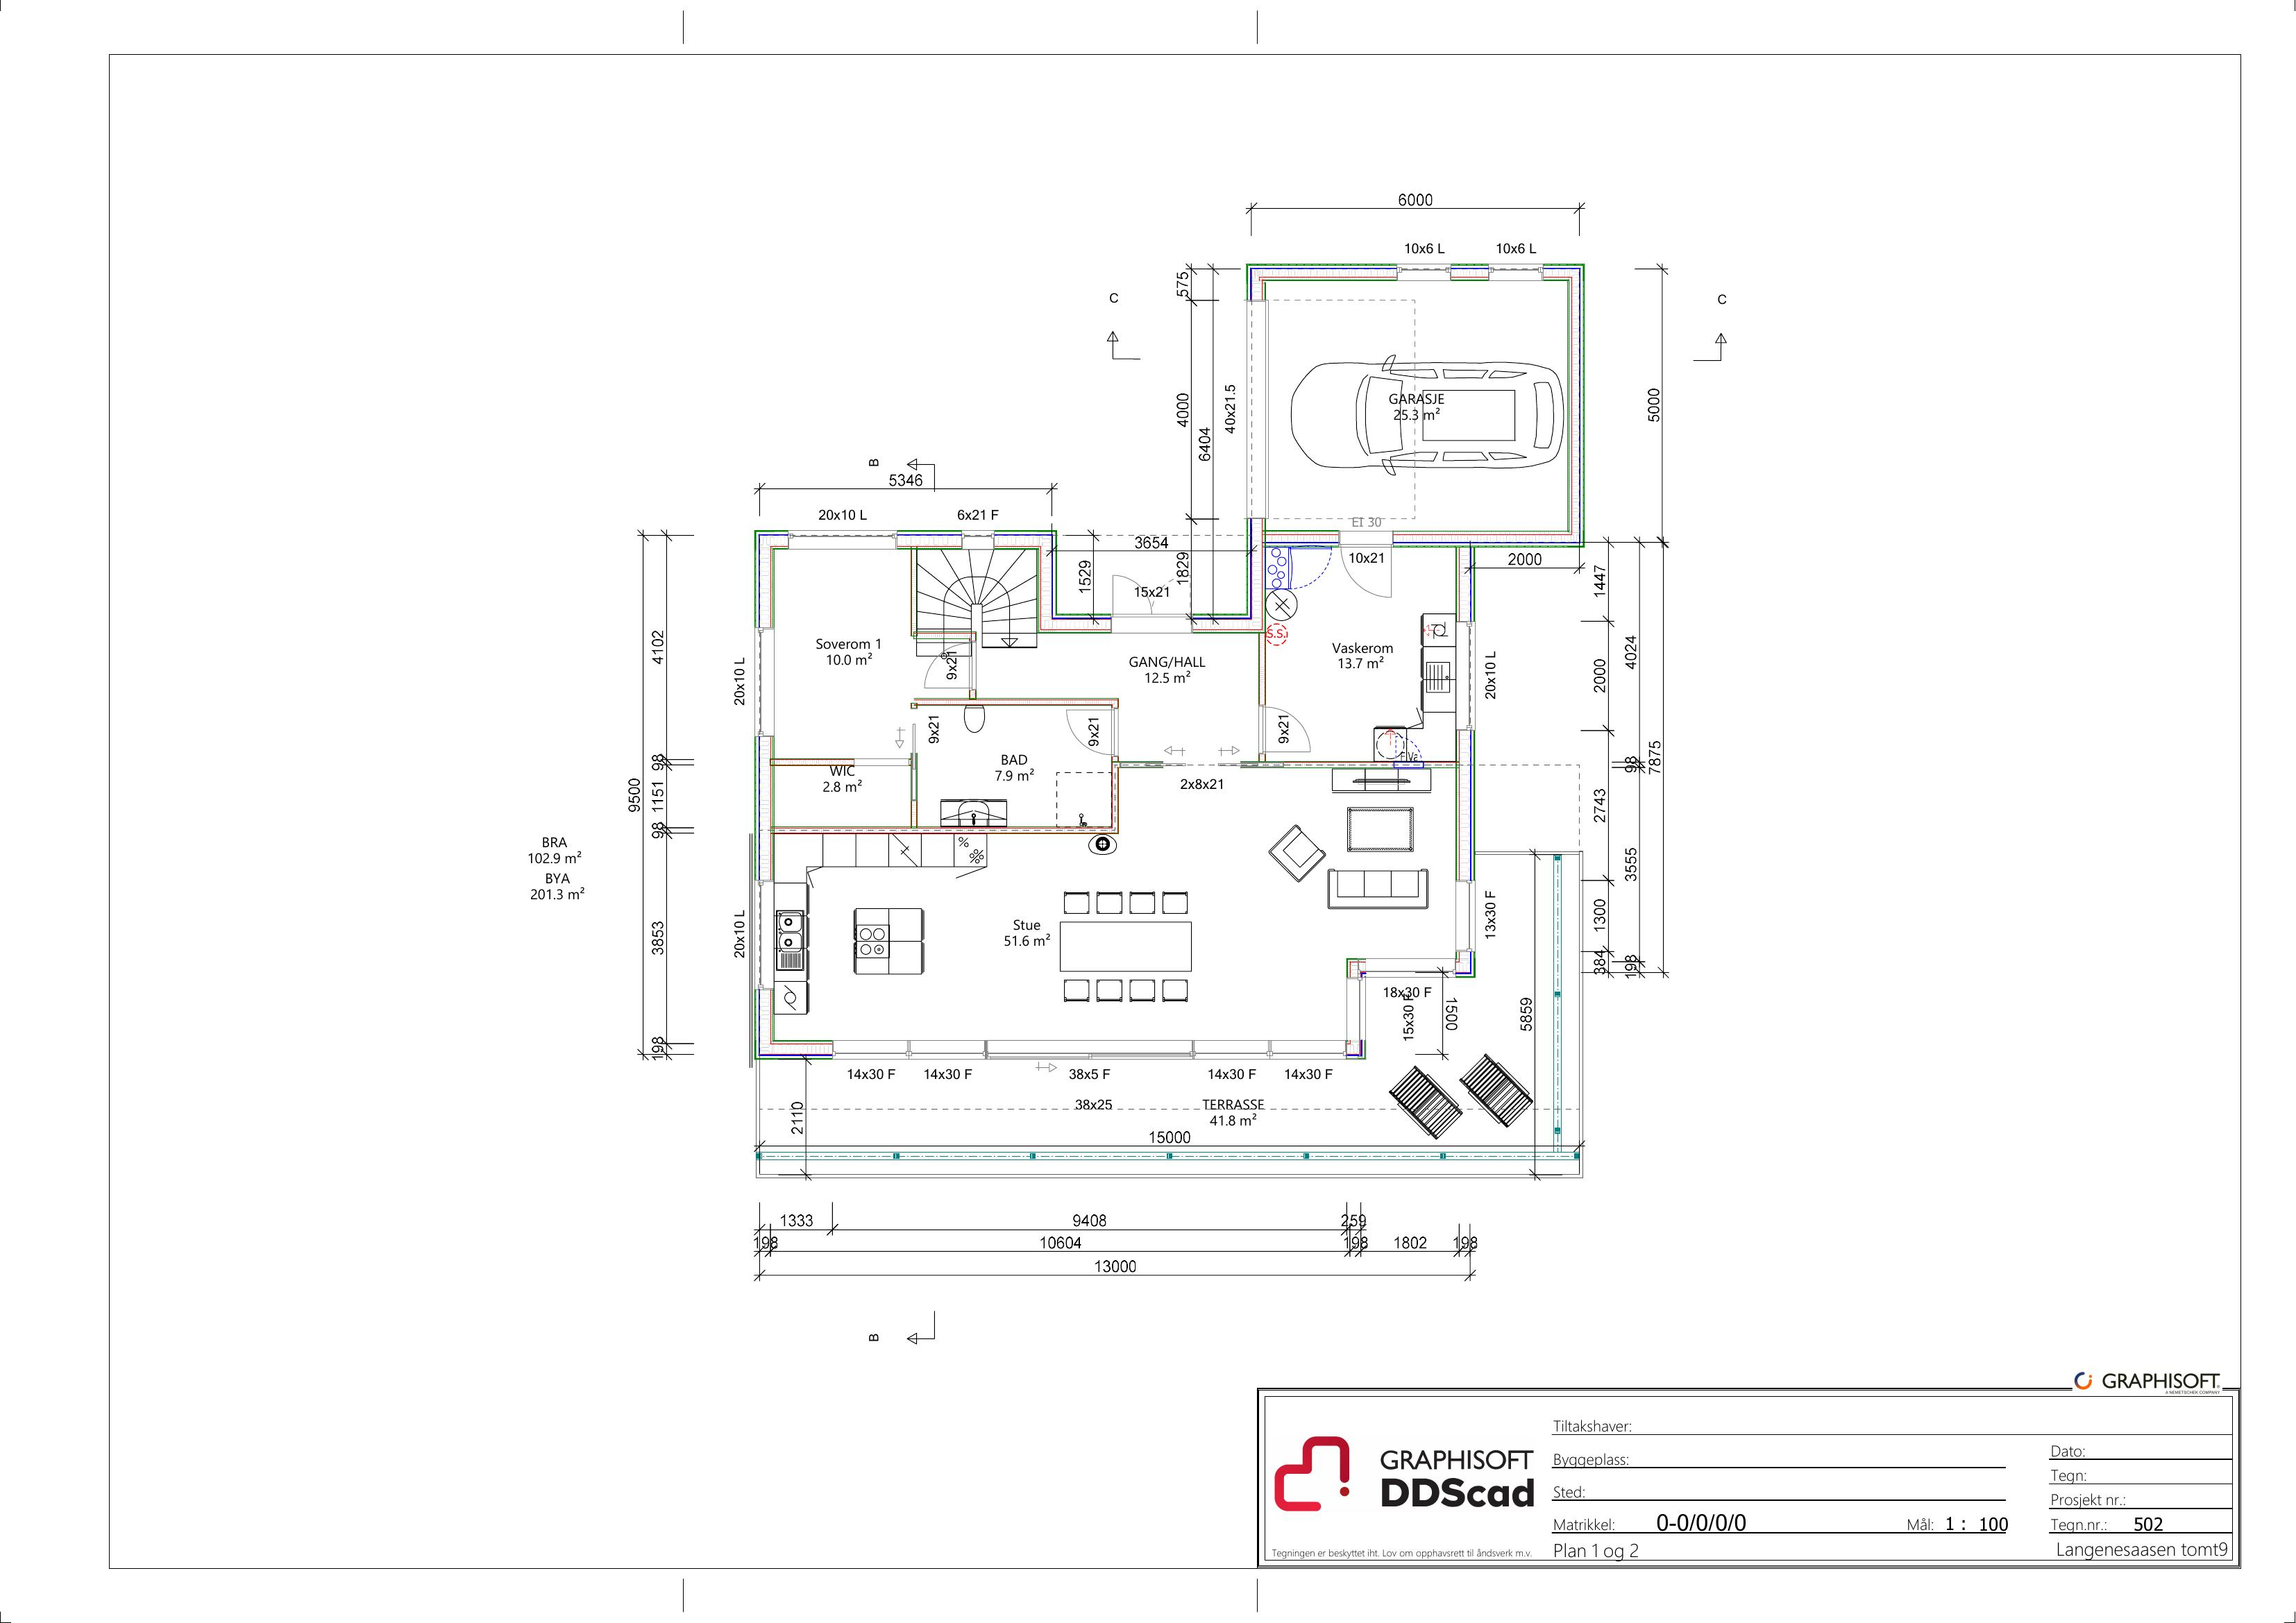plantegning: (721, 221, 1680, 1219)
